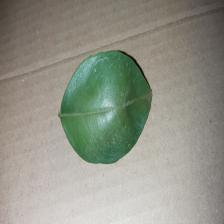healthy: (58, 50, 153, 165)
